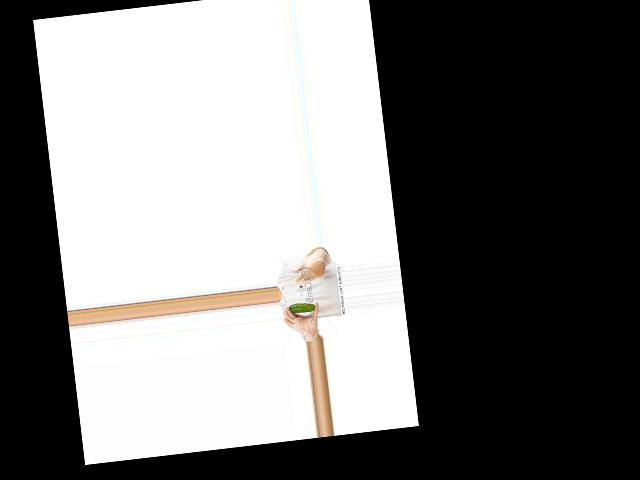cucumber: (288, 302, 316, 314)
